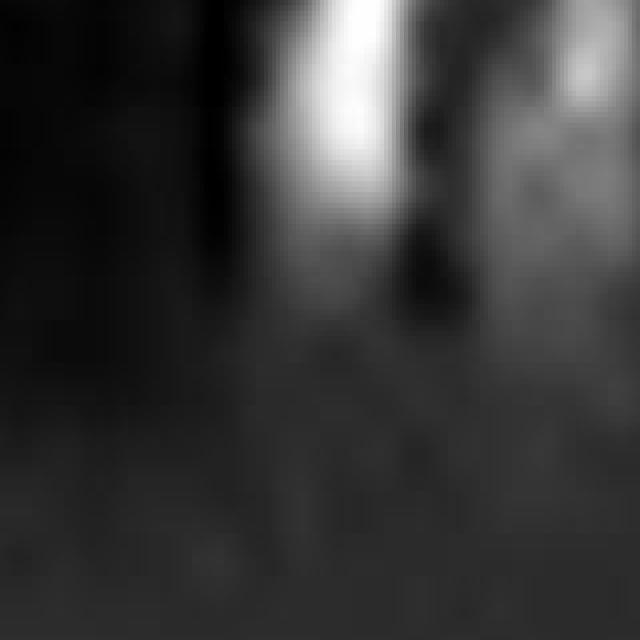person: (465, 1, 640, 385), (245, 1, 425, 326)
